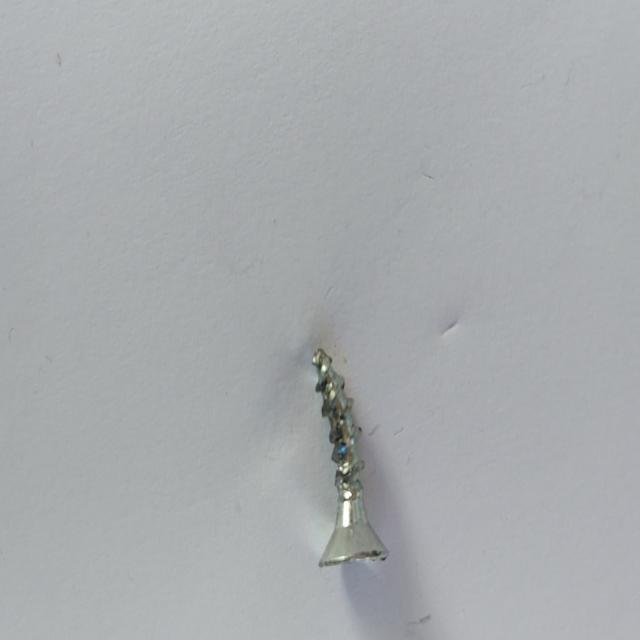Screw: (312, 348, 389, 567)
